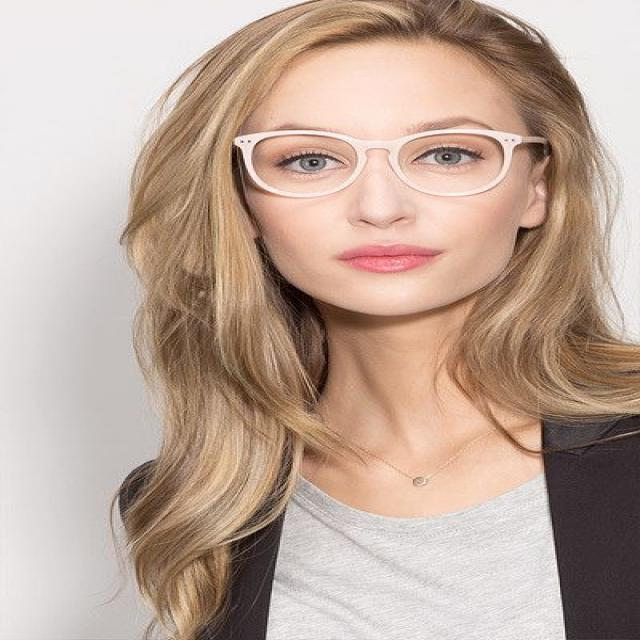Glasses: (230, 124, 549, 202)
